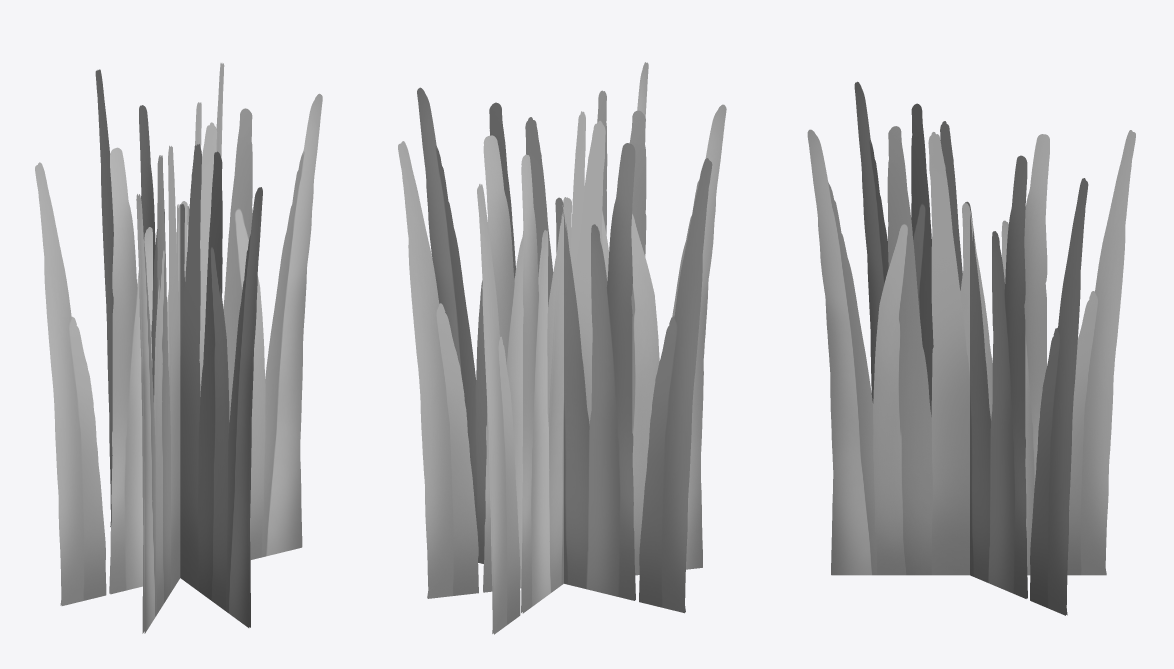
File: High Grass.FBX
The picture shows the model from 3 angles, left to right: view 1: azimuth 30°, elevation 25°; view 2: azimuth 150°, elevation 25°; view 3: azimuth 270°, elevation 25°; orthographic projection. The views are drawn at different scales.
Visible parts, largest first — view 1: Plane038; view 2: Plane038; view 3: Plane038.
Boxes of the visible parts, x1,y1,x2,y2 form: Plane038: (35,63,322,633); Plane038: (398,62,726,634); Plane038: (807,81,1135,615).
Bounding box in the file's own units: 8.46 × 11.86 × 8.46.
